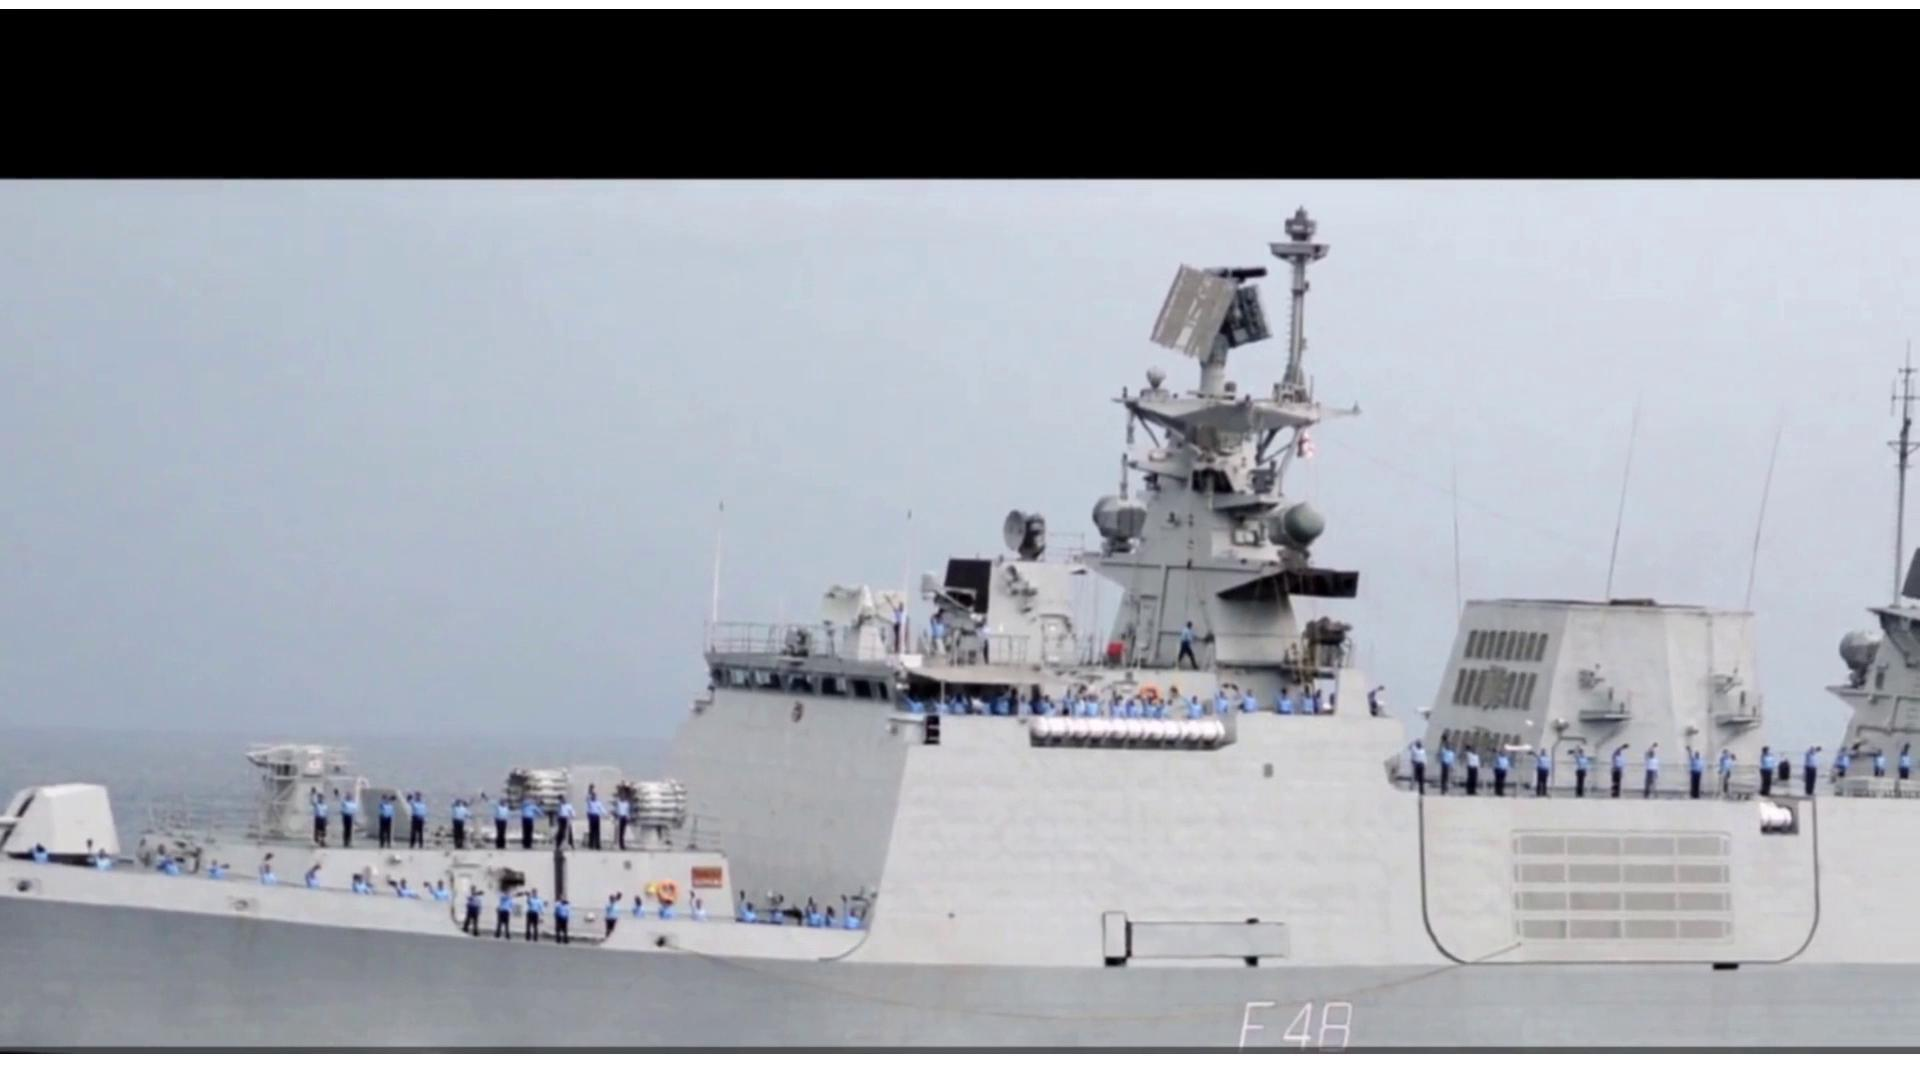OCR: (1220, 989, 1378, 1051)
